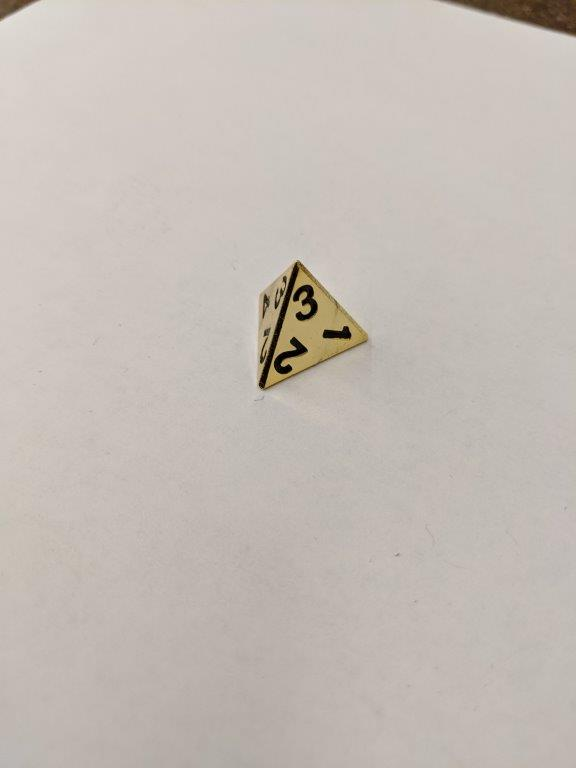d4-3: (249, 258, 371, 391)
